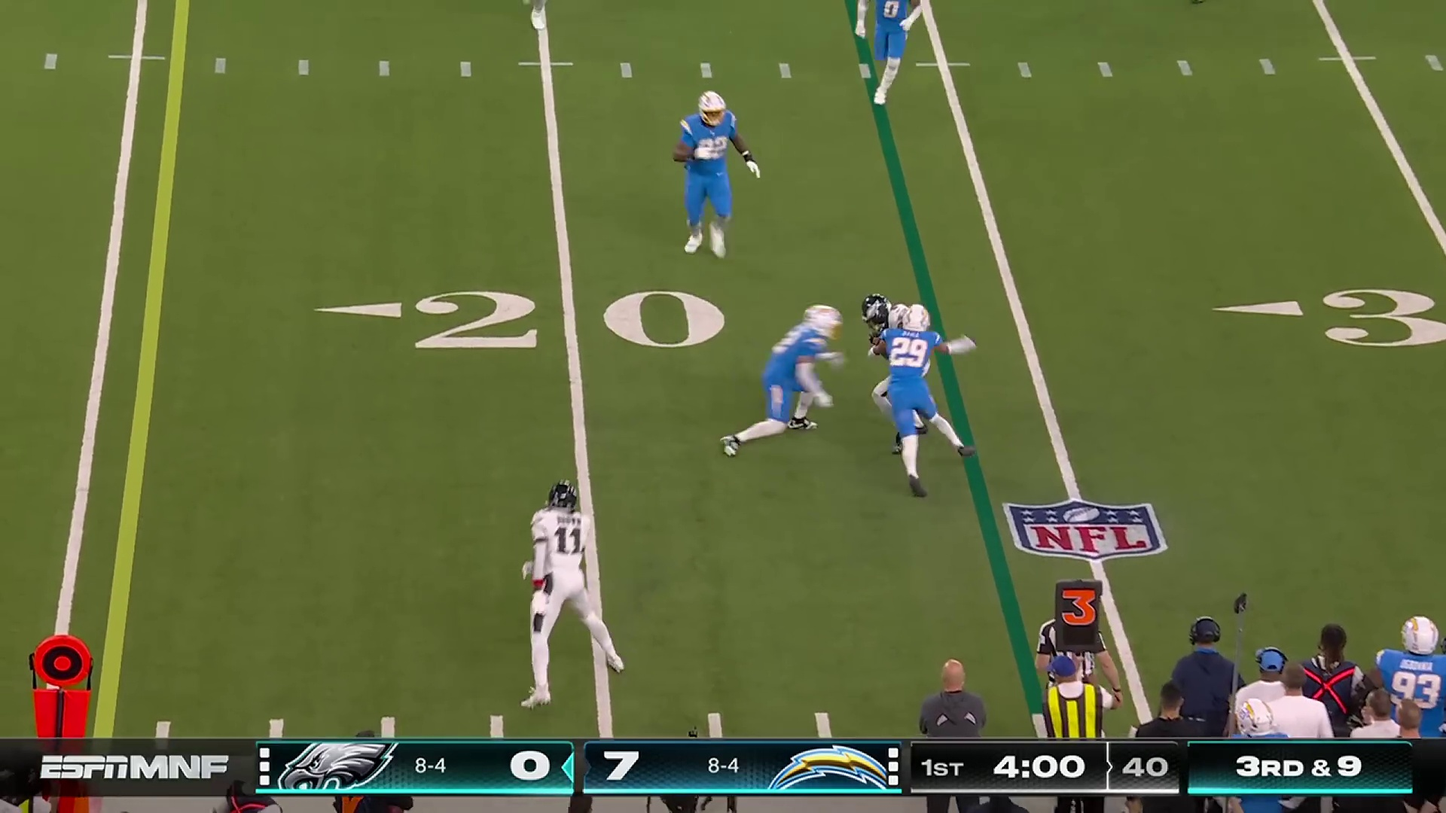ball: (867, 332, 893, 357)
player: (520, 476, 637, 716), (726, 295, 846, 466), (673, 92, 765, 264), (899, 312, 960, 488), (849, 0, 928, 115), (864, 293, 913, 471), (517, 0, 556, 34)
